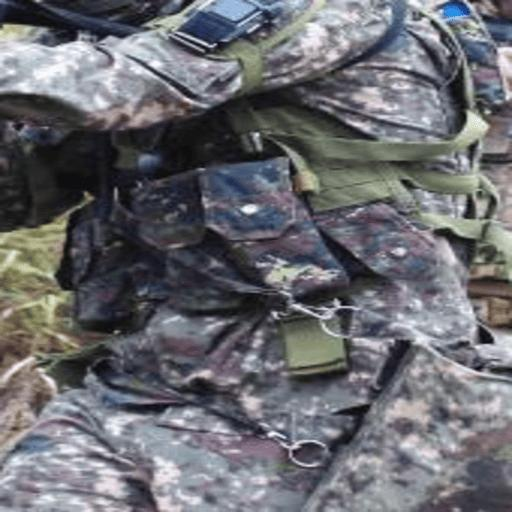korea army: (0, 1, 508, 506)
